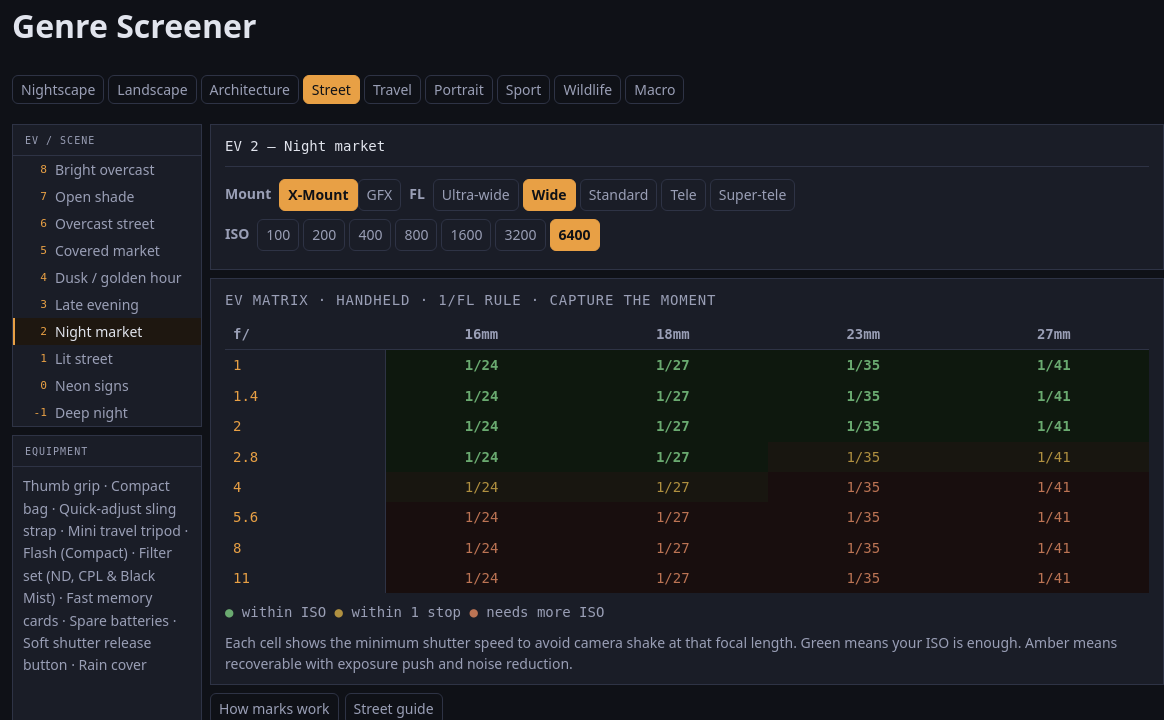
Test case: GenreGuide › shows shutter speed matrix for landscape
Click the tab "Landscape".
click(153, 90)  # box left=108, top=75, right=197, bottom=104
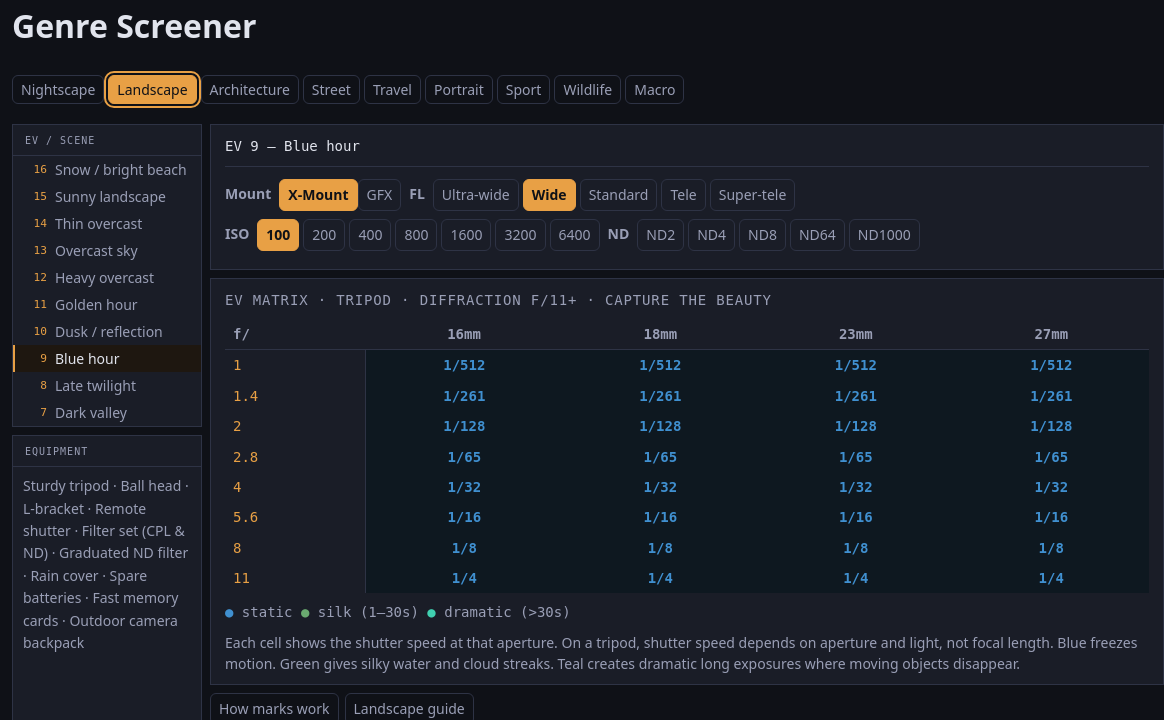
Result: the text "EV Matrix · Tripod · Diffraction f/11+ · Capture the beauty" is shown at left=225, top=292, right=772, bottom=308
